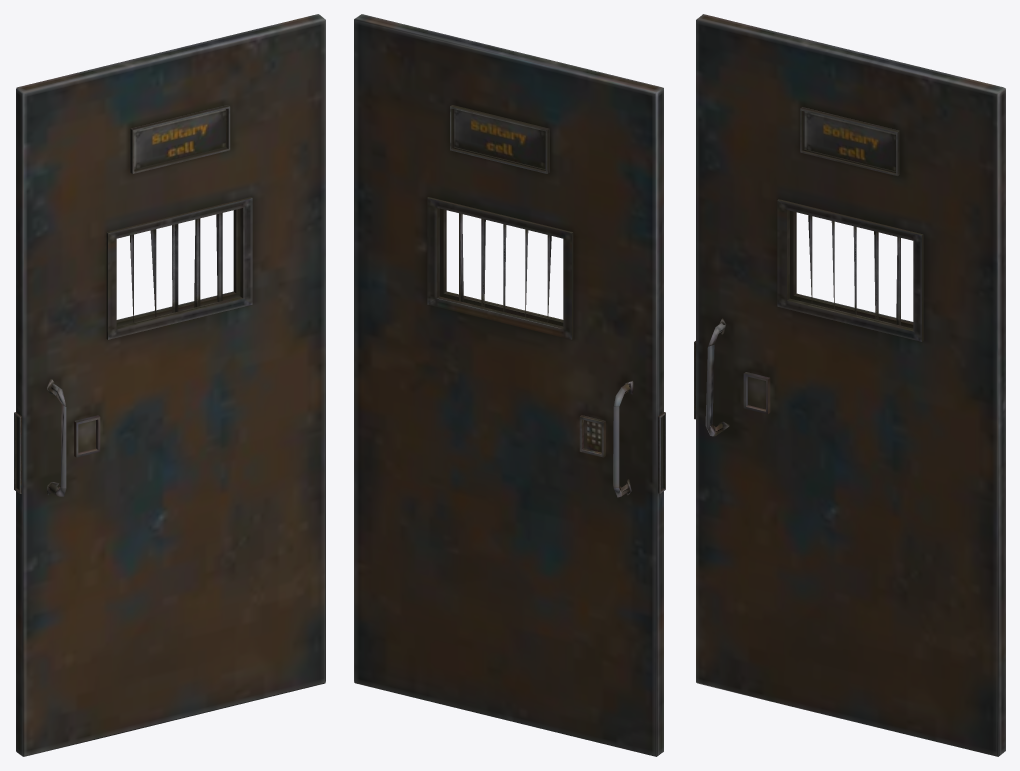
File: bw-solitary-door.lod0.glb
3 renders of one model, left to right at view 1: azimuth 30°, elevation 25°; view 2: azimuth 150°, elevation 25°; view 3: azimuth 330°, elevation 25°, orthographic.
Visible parts, largest first — view 1: Symmetry__0; view 2: Symmetry__0; view 3: Symmetry__0.
Boxes of the visible parts, x1,y1,x2,y2 form: Symmetry__0: (14, 14, 325, 756); Symmetry__0: (354, 14, 665, 756); Symmetry__0: (694, 14, 1005, 756).
Bounding box in the file's own units: 1.11 × 2.3 × 0.2415.
Materials: 1 (1 with a texture image).
